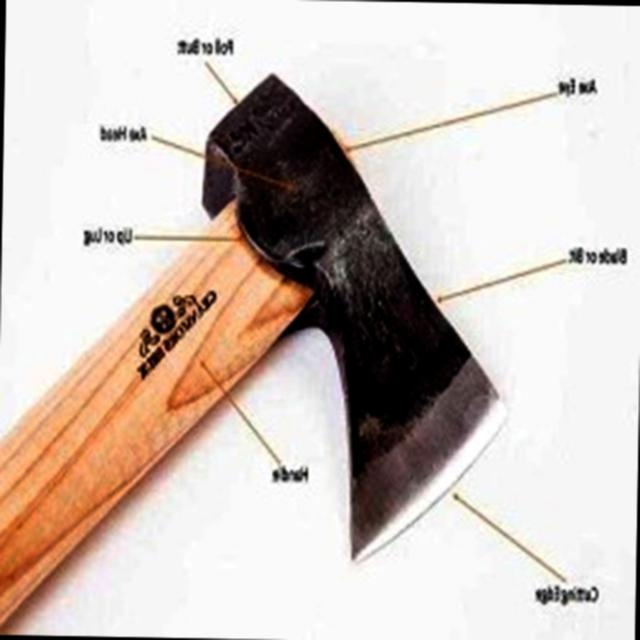ax: (0, 53, 536, 640)
